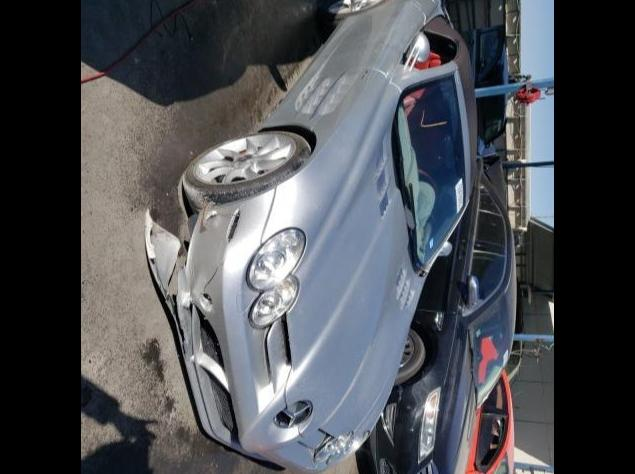Broken part: (144, 188, 326, 472)
Missing part: (414, 31, 458, 66), (227, 210, 238, 236), (202, 292, 211, 306)
Scratch: (203, 268, 216, 292)
